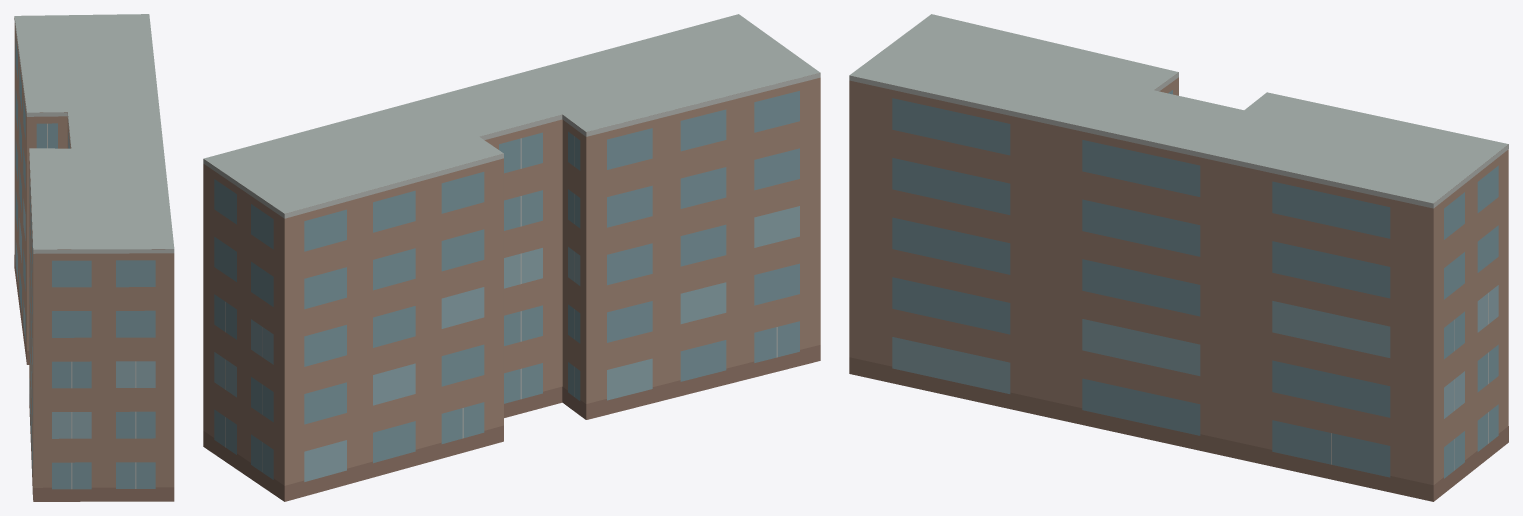
Rendered from survey-upis-32948258.glb.
The picture shows the model from 3 angles, left to right: view 1: azimuth 30°, elevation 25°; view 2: azimuth 150°, elevation 25°; view 3: azimuth 270°, elevation 25°; orthographic projection. The views are drawn at different scales.
Visible parts, largest first — view 1: survey-upis-32948258.tmp; view 2: survey-upis-32948258.tmp; view 3: survey-upis-32948258.tmp.
Boxes of the visible parts, x1,y1,x2,y2 form: survey-upis-32948258.tmp: [14, 14, 174, 501]; survey-upis-32948258.tmp: [203, 14, 820, 501]; survey-upis-32948258.tmp: [849, 14, 1508, 501].
Bounding box in the file's own units: 19.62 × 14.4 × 28.85.
